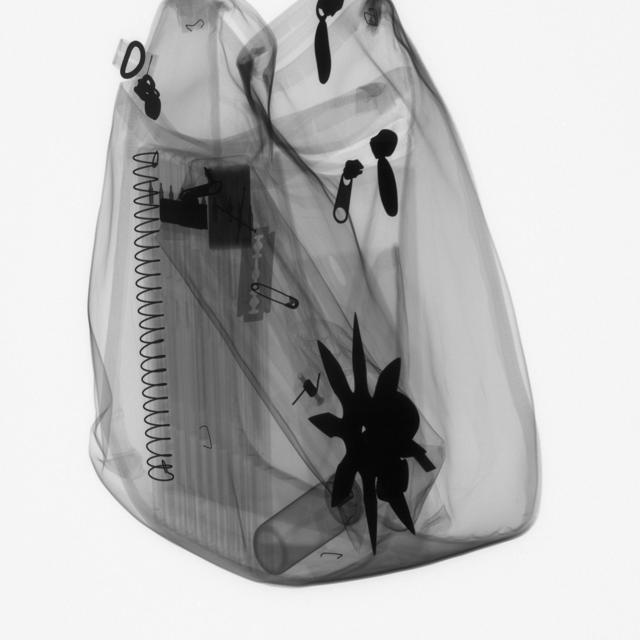razor: (229, 226, 281, 339)
shuriken: (301, 312, 428, 554)
